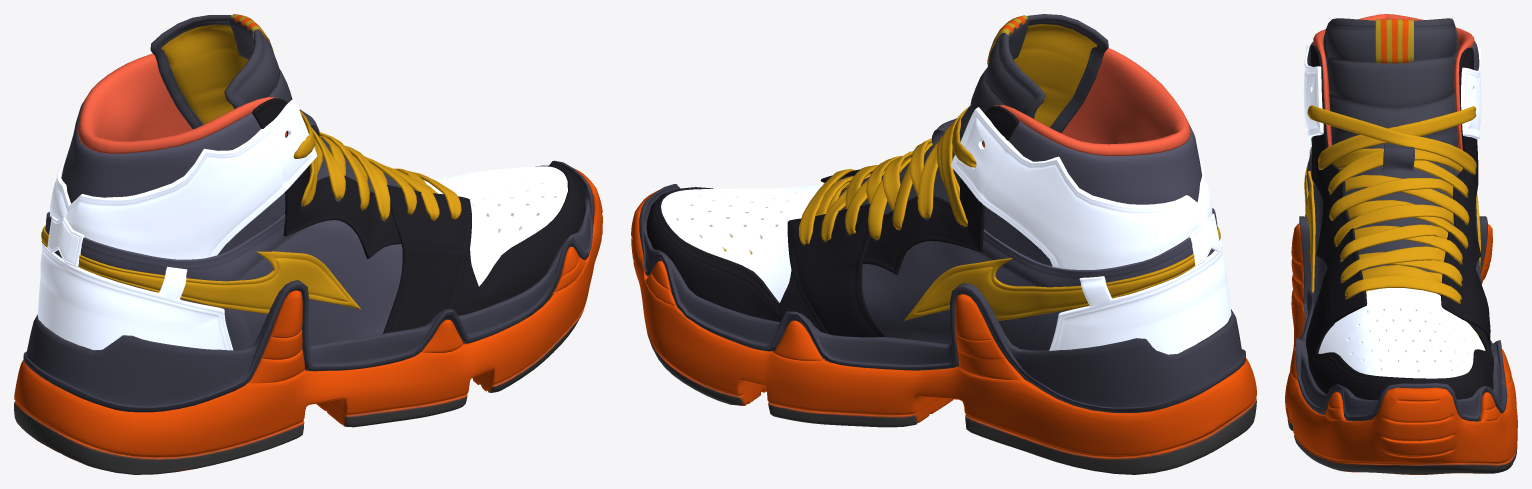
The picture shows the model from 3 angles, left to right: view 1: azimuth 30°, elevation 25°; view 2: azimuth 150°, elevation 25°; view 3: azimuth 270°, elevation 25°; orthographic projection. The views are drawn at different scales.
Visible parts, largest first — view 1: Mesh_3_blinn1SG.001_0, Mesh_8_blinn3SG_0, Mesh_4_blinn1SG.002_0, Mesh_6_blinn2SG.001_0, Mesh_5_blinn2SG_0, Mesh_1_blinn6SG_0, Mesh_7_blinn2SG_0, Mesh_0_bladeblinn31SG_0, Mesh_10_blinn5SG_0, Mesh_2_blinn7SG_0, Mesh_9_blinn4SG_0; view 2: Mesh_3_blinn1SG.001_0, Mesh_8_blinn3SG_0, Mesh_4_blinn1SG.002_0, Mesh_6_blinn2SG.001_0, Mesh_5_blinn2SG_0, Mesh_1_blinn6SG_0, Mesh_7_blinn2SG_0, Mesh_2_blinn7SG_0, Mesh_10_blinn5SG_0, Mesh_0_bladeblinn31SG_0, Mesh_9_blinn4SG_0; view 3: Mesh_2_blinn7SG_0, Mesh_3_blinn1SG.001_0, Mesh_10_blinn5SG_0, Mesh_6_blinn2SG.001_0, Mesh_8_blinn3SG_0, Mesh_4_blinn1SG.002_0, Mesh_1_blinn6SG_0, Mesh_5_blinn2SG_0, Mesh_0_bladeblinn31SG_0, Mesh_7_blinn2SG_0.
Part boxes in pixels (x1,y1,x2,y2): Mesh_3_blinn1SG.001_0: [14, 168, 602, 474]; Mesh_8_blinn3SG_0: [37, 99, 567, 350]; Mesh_4_blinn1SG.002_0: [23, 160, 594, 412]; Mesh_6_blinn2SG.001_0: [252, 98, 585, 333]; Mesh_5_blinn2SG_0: [45, 212, 402, 349]; Mesh_1_blinn6SG_0: [78, 53, 286, 153]; Mesh_7_blinn2SG_0: [61, 101, 303, 254]; Mesh_0_bladeblinn31SG_0: [41, 226, 360, 313]; Mesh_10_blinn5SG_0: [150, 14, 415, 221]; Mesh_2_blinn7SG_0: [293, 110, 461, 221]; Mesh_9_blinn4SG_0: [161, 24, 519, 229]; Mesh_3_blinn1SG.001_0: [631, 189, 1256, 474]; Mesh_8_blinn3SG_0: [661, 107, 1231, 354]; Mesh_4_blinn1SG.002_0: [639, 184, 1245, 412]; Mesh_6_blinn2SG.001_0: [646, 105, 1019, 337]; Mesh_5_blinn2SG_0: [862, 208, 1217, 350]; Mesh_1_blinn6SG_0: [965, 48, 1190, 226]; Mesh_7_blinn2SG_0: [984, 121, 1202, 265]; Mesh_2_blinn7SG_0: [799, 106, 976, 244]; Mesh_10_blinn5SG_0: [839, 14, 1108, 240]; Mesh_0_bladeblinn31SG_0: [904, 227, 1220, 320]; Mesh_9_blinn4SG_0: [701, 24, 1096, 254]; Mesh_2_blinn7SG_0: [1307, 105, 1476, 303]; Mesh_3_blinn1SG.001_0: [1285, 223, 1517, 474]; Mesh_10_blinn5SG_0: [1323, 18, 1458, 295]; Mesh_6_blinn2SG.001_0: [1306, 45, 1493, 400]; Mesh_8_blinn3SG_0: [1303, 44, 1485, 378]; Mesh_4_blinn1SG.002_0: [1295, 214, 1507, 421]; Mesh_1_blinn6SG_0: [1313, 14, 1474, 150]; Mesh_5_blinn2SG_0: [1306, 147, 1481, 312]; Mesh_0_bladeblinn31SG_0: [1304, 160, 1480, 292]; Mesh_7_blinn2SG_0: [1307, 41, 1479, 144].
Bounding box in the file's own units: 3.09 × 1.96 × 1.2.
10 materials, 2 textured.
